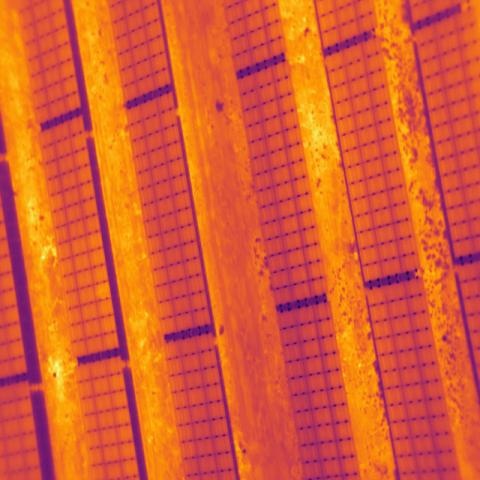fault: (94, 281, 112, 303)
